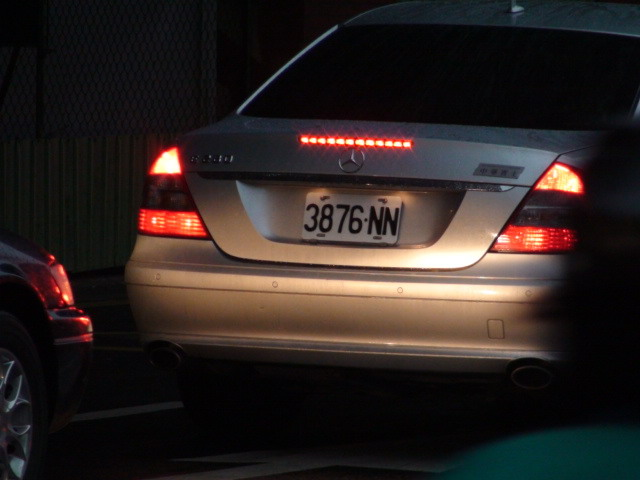plate: (297, 187, 402, 250)
